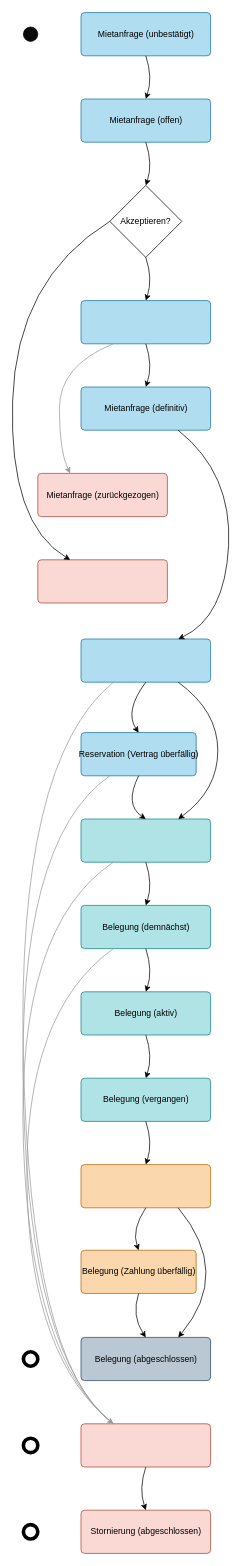
The diagram is 242 pixels wide and 1566 high, and some of its shapes have lost their labels. The shapes that lost their labels are listed below. From the top down, each one's centre as x and y in pixels, then its label:
At (x=145, y=322): "Mietanfrage (provisorisch)".
At (x=102, y=581): "Mietanfrage (abgelehnt)".
At (x=145, y=660): "Reservation (Vertrag ausstehend)".
At (x=145, y=840): "Belegung (zukünftig)".
At (x=145, y=1186): "Belegung (Zahlung ausstehend)".
At (x=145, y=1445): "Stornierung (pendent)".
